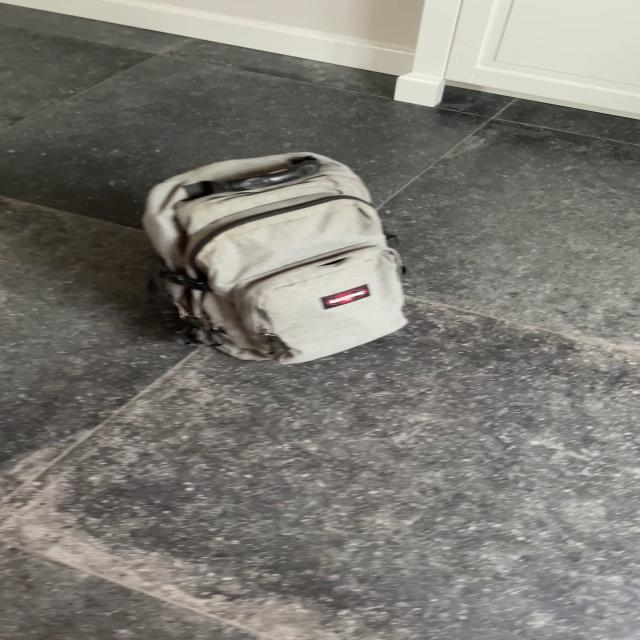backpack: (125, 145, 419, 369)
